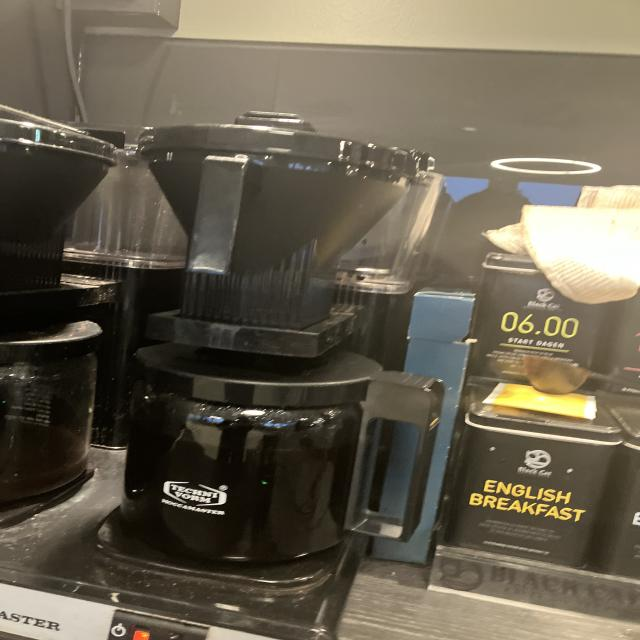coffee: (107, 338, 386, 568), (0, 307, 101, 508)
